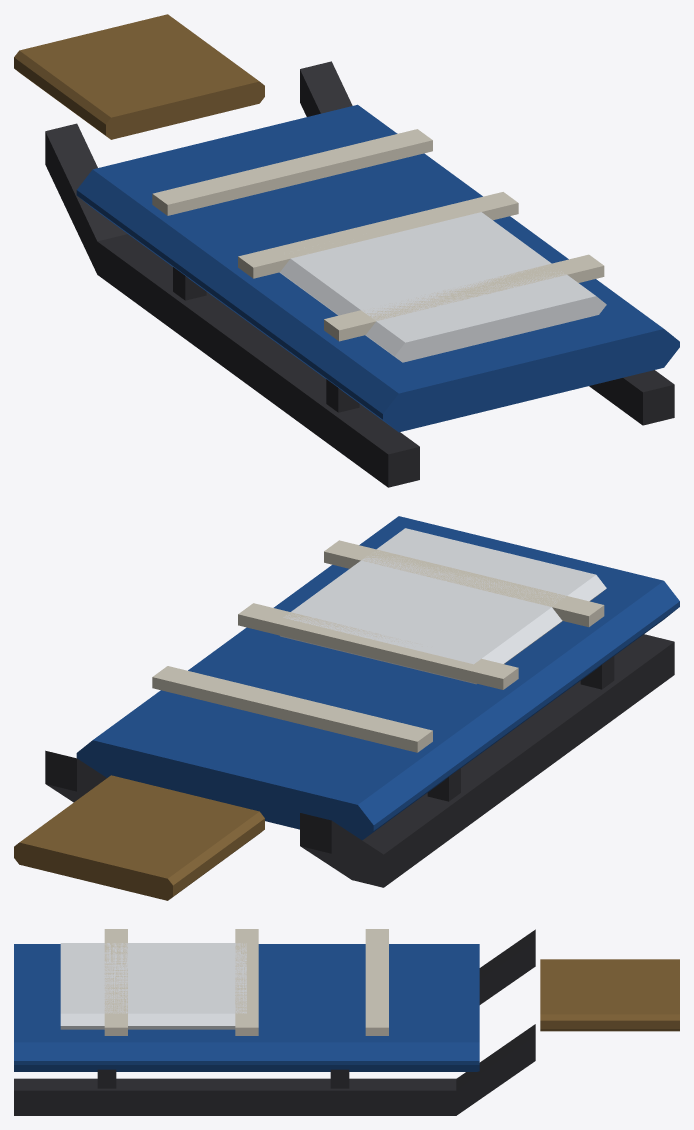
File: kidsled.glb
3 renders of one model, top to bottom at view 1: azimuth 30°, elevation 25°; view 2: azimuth 150°, elevation 25°; view 3: azimuth 270°, elevation 25°, orthographic. The views are drawn at different scales.
Parts seen in each view (by area): view 1: body.006; view 2: body.006; view 3: body.006.
Boxes of the visible parts, x1,y1,x2,y2 form: body.006: [14, 14, 679, 487]; body.006: [14, 516, 679, 900]; body.006: [14, 929, 679, 1115].
Size of the model in its own units: 0.56 by 0.2 by 1.43.
